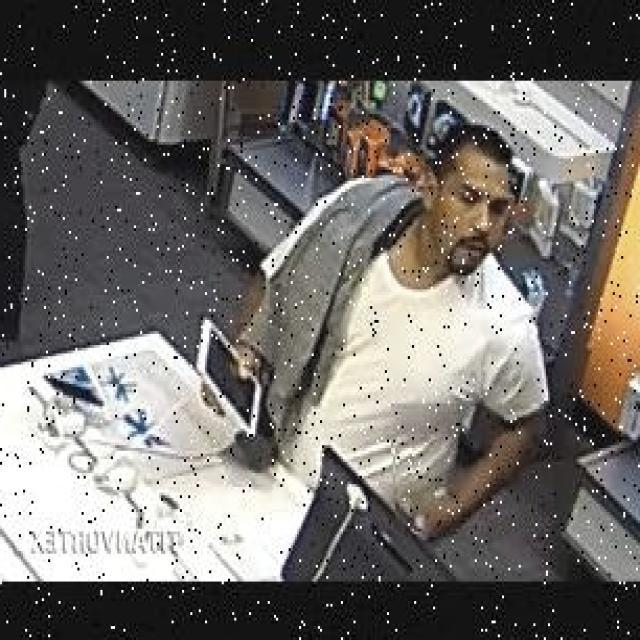Shoplifting: (158, 100, 558, 556)
